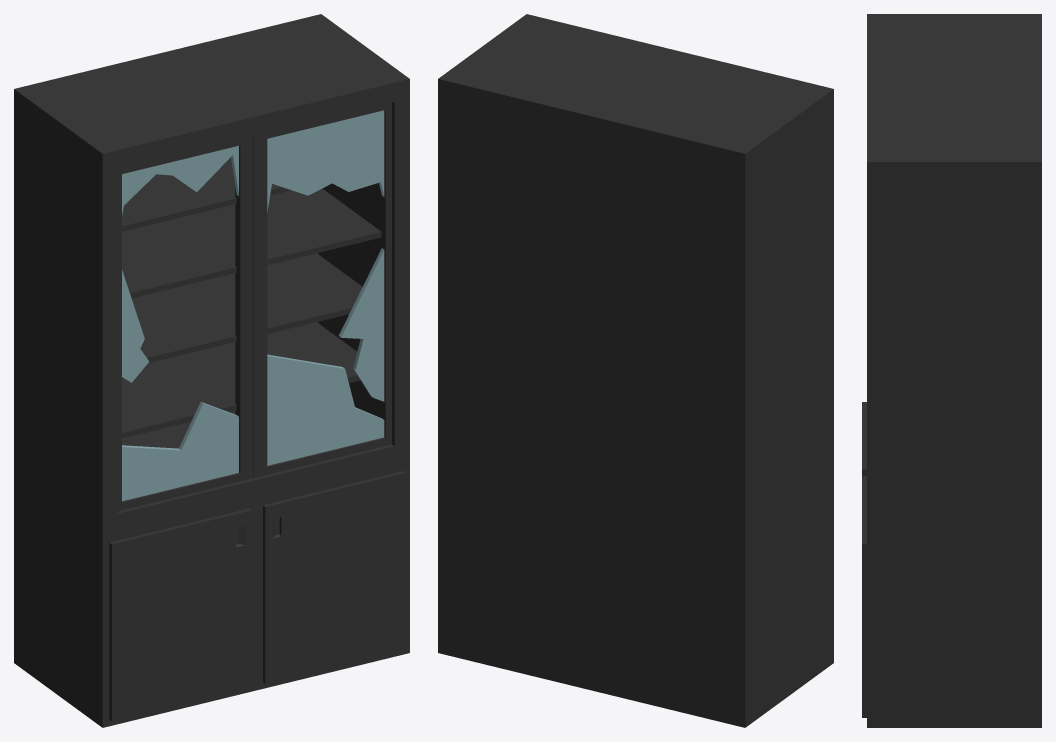
File: cabinet1_broken.fbx
3 renders of one model, left to right at view 1: azimuth 30°, elevation 25°; view 2: azimuth 150°, elevation 25°; view 3: azimuth 270°, elevation 25°, orthographic.
Visible parts, largest first — view 1: Cube; view 2: Cube; view 3: Cube.
Part boxes in pixels (x1,y1,x2,y2): Cube: [14, 14, 409, 727]; Cube: [438, 14, 833, 727]; Cube: [862, 14, 1041, 727].
Bounding box in the file's own units: 140 × 250 × 72.
